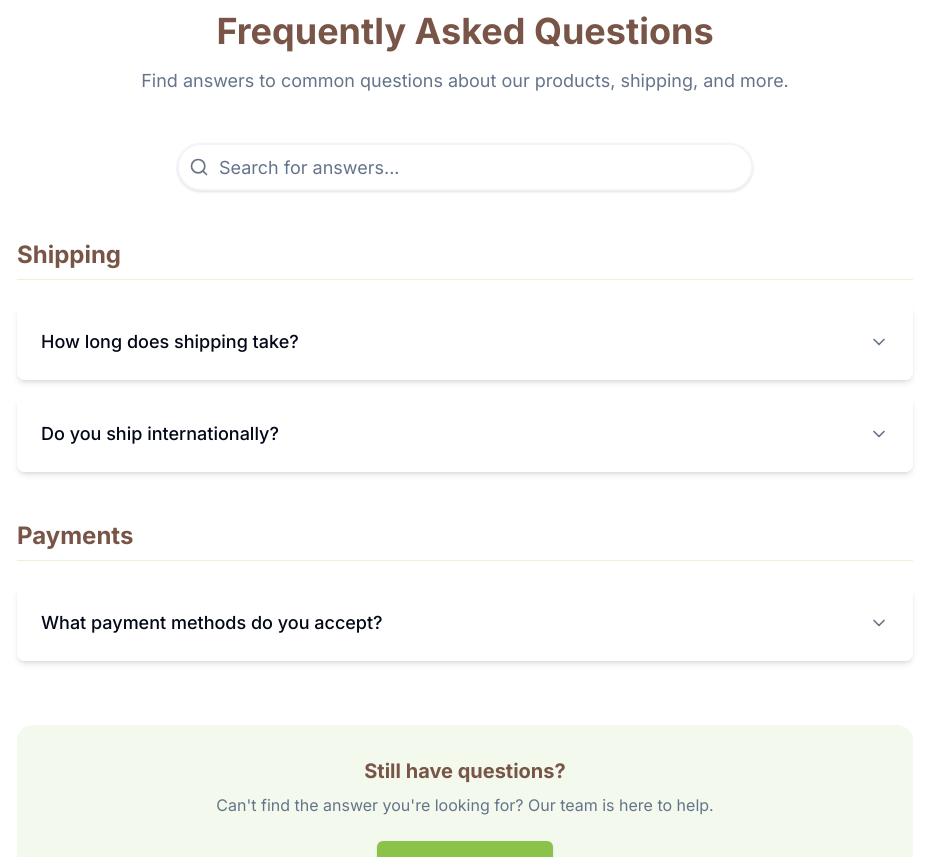
Test case: FAQClient › displays no results message when search matches nothing
The image size is (931, 857).
Type "xyz" into the field with placeholder "Search for answers..." at x=465, y=167, box [177, 143, 753, 191]
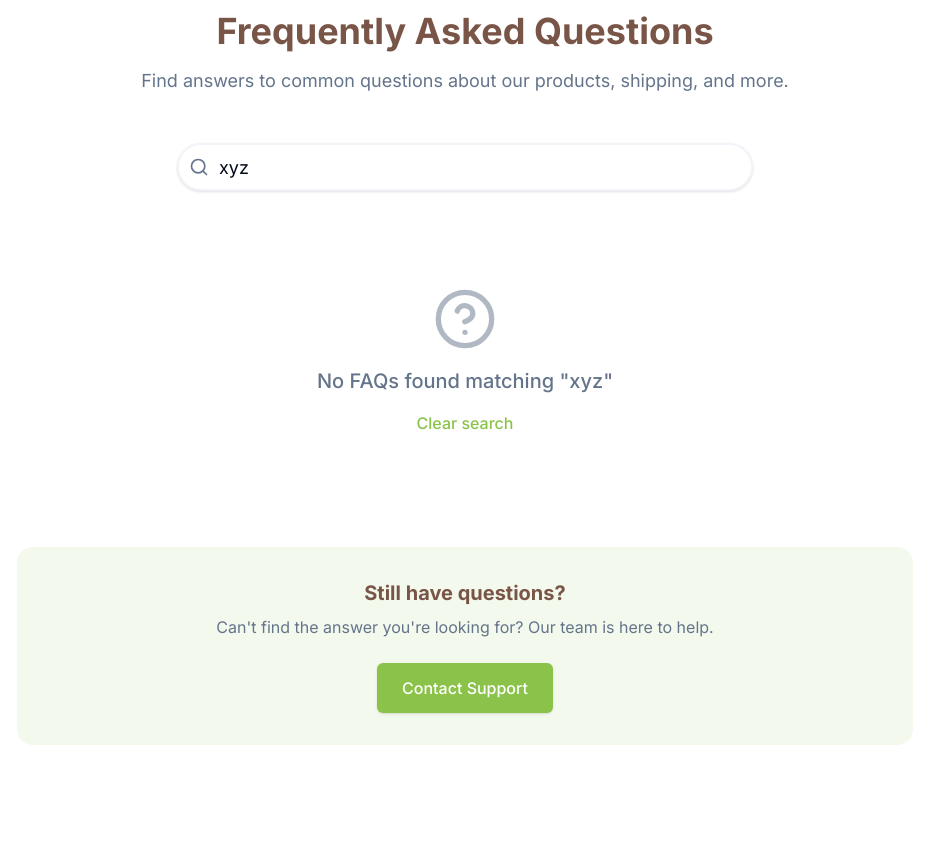
Expected: the heading "No FAQs found matching \"xyz\"" is shown, [317, 369, 613, 393]
